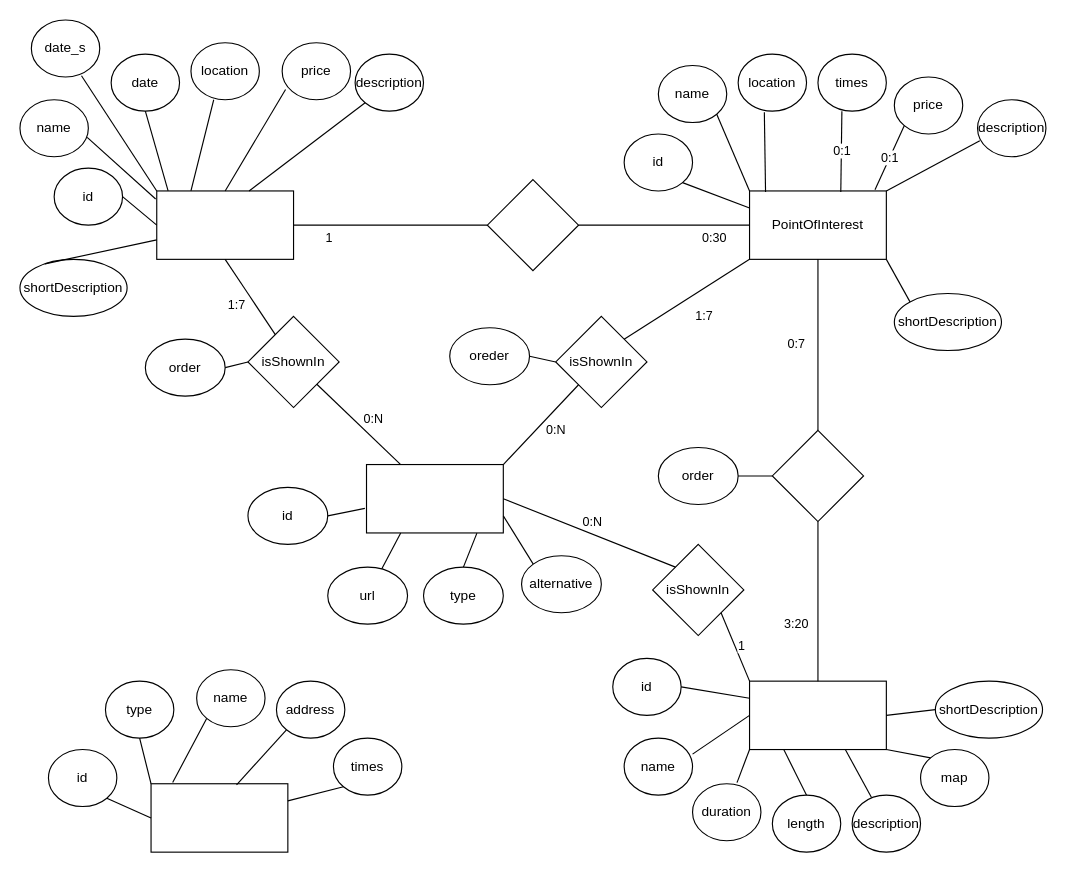
This 1066x872 diagram has some shape labels left out. The centre of each missing label's shape, as x and y in pixels:
Event: the point at 225,224
involves: the point at 817,475
isHosted: the point at 532,224
Itinerary: the point at 817,715
Media: the point at 434,498
Service: the point at 219,817
